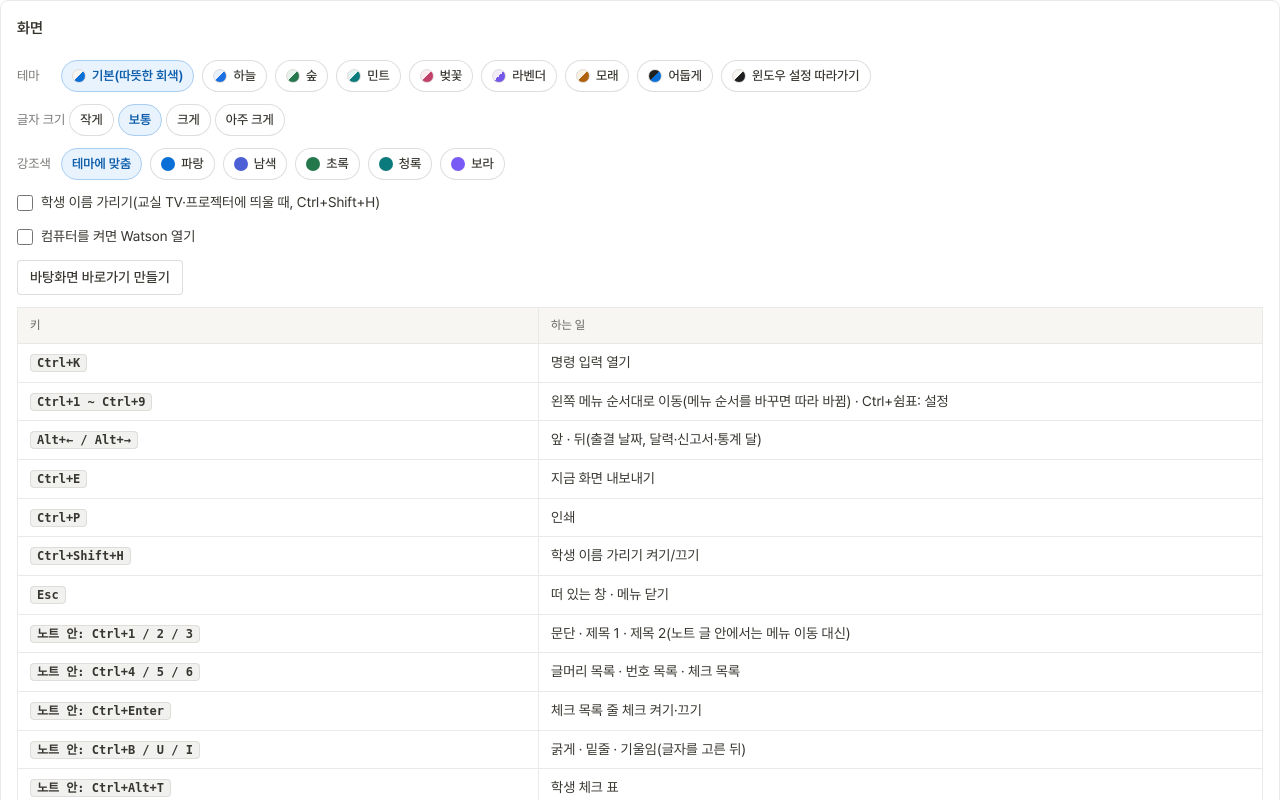
Scenario: exe: 체크하면 autostart.set(true), 단추는 shortcut.create, 결과 문구
The width and height of the screenshot is (1280, 800).
Click the checkbox labelled "컴퓨터를 켜면 Watson 열기" at coordinates (25, 237), box [17, 229, 33, 245]
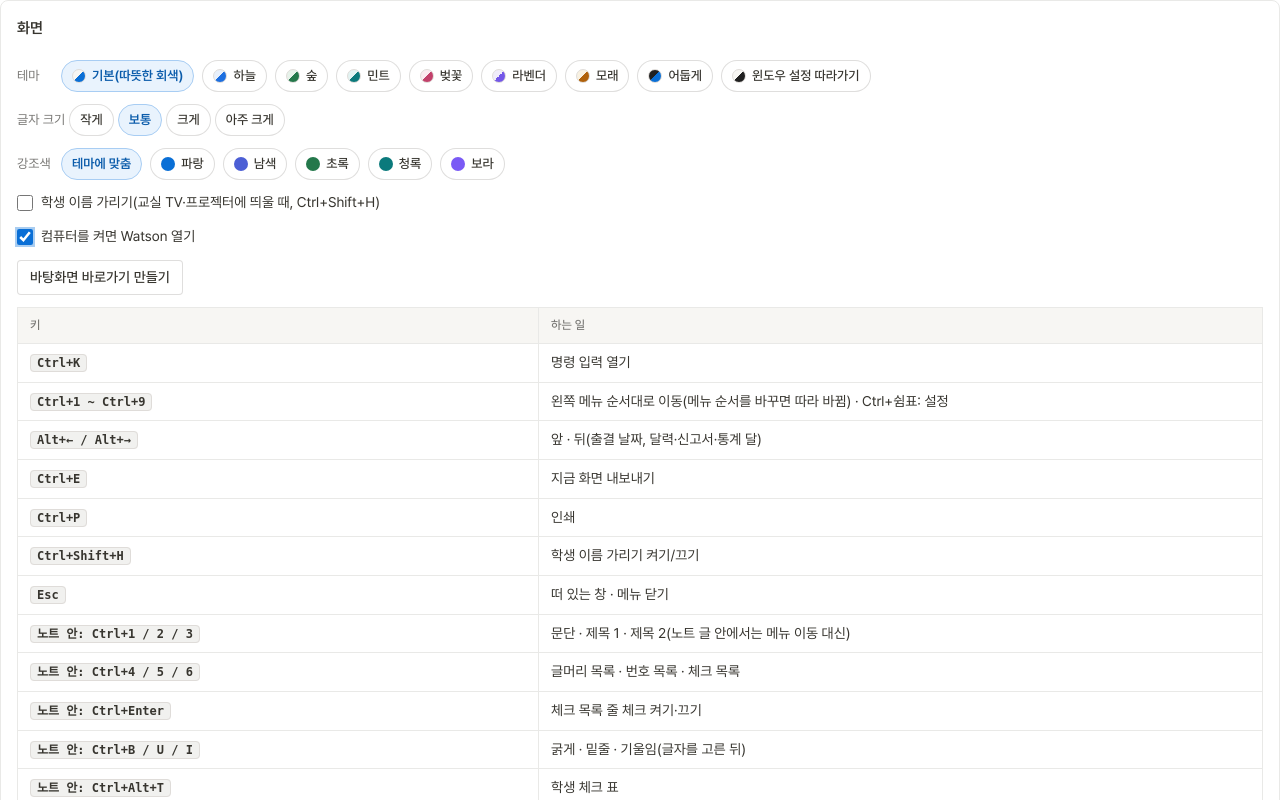
Click the button "바탕화면 바로가기 만들기" at coordinates (100, 277), box [17, 260, 183, 295]
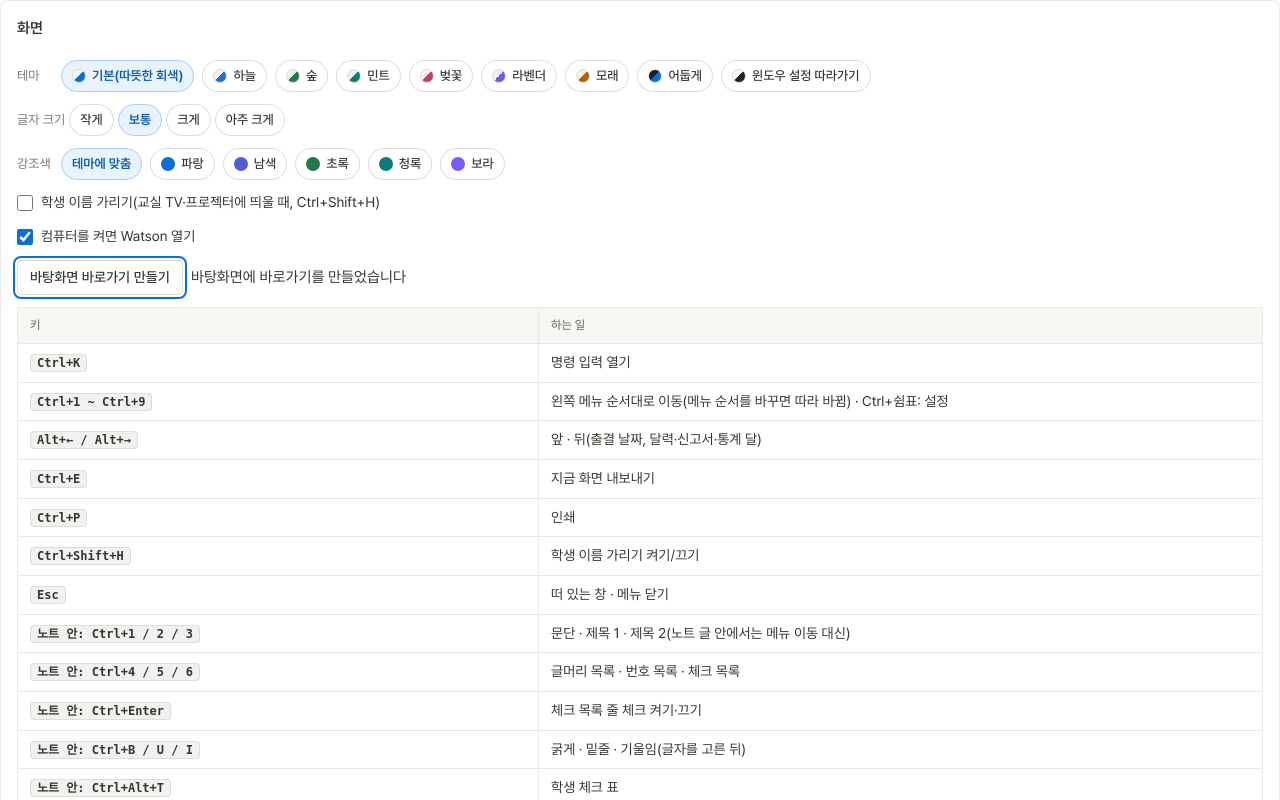
expect the text "바탕화면에 바로가기를 만들었습니다" is shown: met, box [191, 266, 406, 289]
